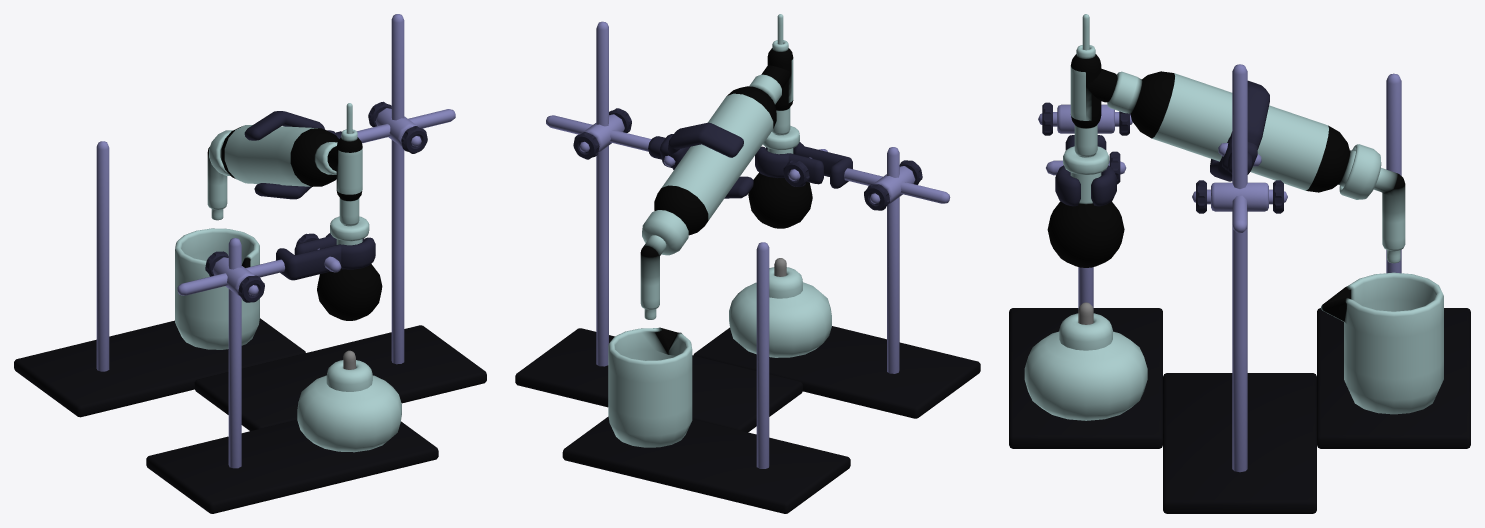
The model's file is LastLuna_Model_Station_Distiller.fbx.
The picture shows the model from 3 angles, left to right: view 1: azimuth 30°, elevation 25°; view 2: azimuth 150°, elevation 25°; view 3: azimuth 270°, elevation 25°; orthographic projection. The views are drawn at different scales.
Parts seen in each view (by area): view 1: Stand_Base001 (×2), Stand_Base002, Alcohol_Lamp001, Beaker001, Condenser001, Stand_Pole_Tall001, Flask_Round001, Stand_Pole002, Stand_Pole001, Distill_Collector001, Stand_Arm_Clamp_Base001, Distill_Receiver001 (+8 smaller); view 2: Stand_Base001 (×2), Stand_Base002, Beaker001, Condenser001, Alcohol_Lamp001, Stand_Pole_Tall001, Flask_Round001, Stand_Pole002, Distill_Receiver001, Stand_Pole001, Distill_Collector001, Stand_Arm_Clip_Right001 (+9 smaller); view 3: Stand_Base001 (×2), Condenser001, Beaker001, Stand_Base002, Alcohol_Lamp001, Stand_Pole_Tall001, Flask_Round001, Distill_Collector001, Distill_Receiver001, Stand_Pole002, Stand_Fixture002, Stand_Arm_Clip_Right001 (+8 smaller).
Part boxes in pixels (x1,y1,x2,y2): Stand_Base001 (×2): (146,325,486,513); Stand_Base002: (14,318,305,417); Alcohol_Lamp001: (297,360,401,452); Beaker001: (175,228,259,349); Condenser001: (220,125,339,186); Stand_Pole_Tall001: (391,14,404,364); Flask_Round001: (317,216,382,320); Stand_Pole002: (96,141,109,371); Stand_Pole001: (228,238,241,468); Distill_Collector001: (327,103,362,226); Stand_Arm_Clamp_Base001: (276,237,375,280); Distill_Receiver001: (207,130,232,220); Stand_Base001 (×2): (515,326,980,432); Stand_Base002: (562,416,850,513); Beaker001: (608,327,692,447); Condenser001: (654,74,781,235); Alcohol_Lamp001: (729,267,831,357); Stand_Pole_Tall001: (596,21,608,366); Flask_Round001: (748,126,812,228); Stand_Pole002: (756,242,769,468); Distill_Receiver001: (640,210,688,319); Stand_Pole001: (887,147,899,373); Distill_Collector001: (761,14,793,135); Stand_Arm_Clip_Right001: (668,122,743,157); Stand_Base001 (×2): (1009,308,1316,513); Condenser001: (1107,71,1355,192); Beaker001: (1321,272,1443,414); Stand_Base002: (1317,308,1470,448); Alcohol_Lamp001: (1024,313,1147,420); Stand_Pole_Tall001: (1232,64,1247,472); Flask_Round001: (1047,146,1124,267); Distill_Collector001: (1070,14,1117,157); Distill_Receiver001: (1339,144,1405,263); Stand_Pole002: (1386,73,1401,273); Stand_Fixture002: (1192,182,1287,211); Stand_Arm_Clip_Right001: (1229,80,1269,149).
Size of the model in its own units: 118 by 118 by 118.
